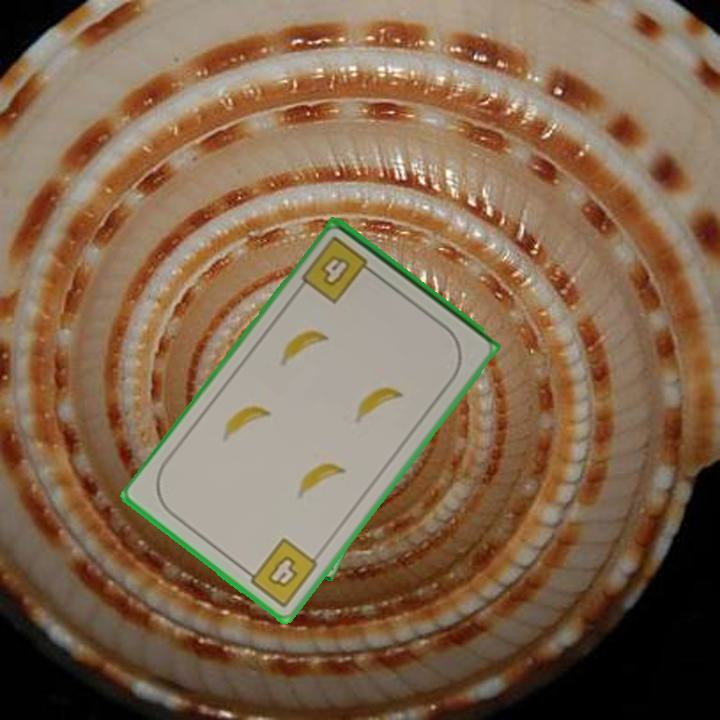4b: (239, 534, 321, 611), (297, 233, 380, 307)
